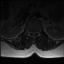CCS_severe_stenosis: (32, 30, 34, 36)
LFS_normal: (36, 29, 38, 35)
LLS_stenosis: (34, 30, 36, 35)
RFS_normal: (29, 29, 31, 35)
RLS_stenosis: (31, 30, 32, 35)
